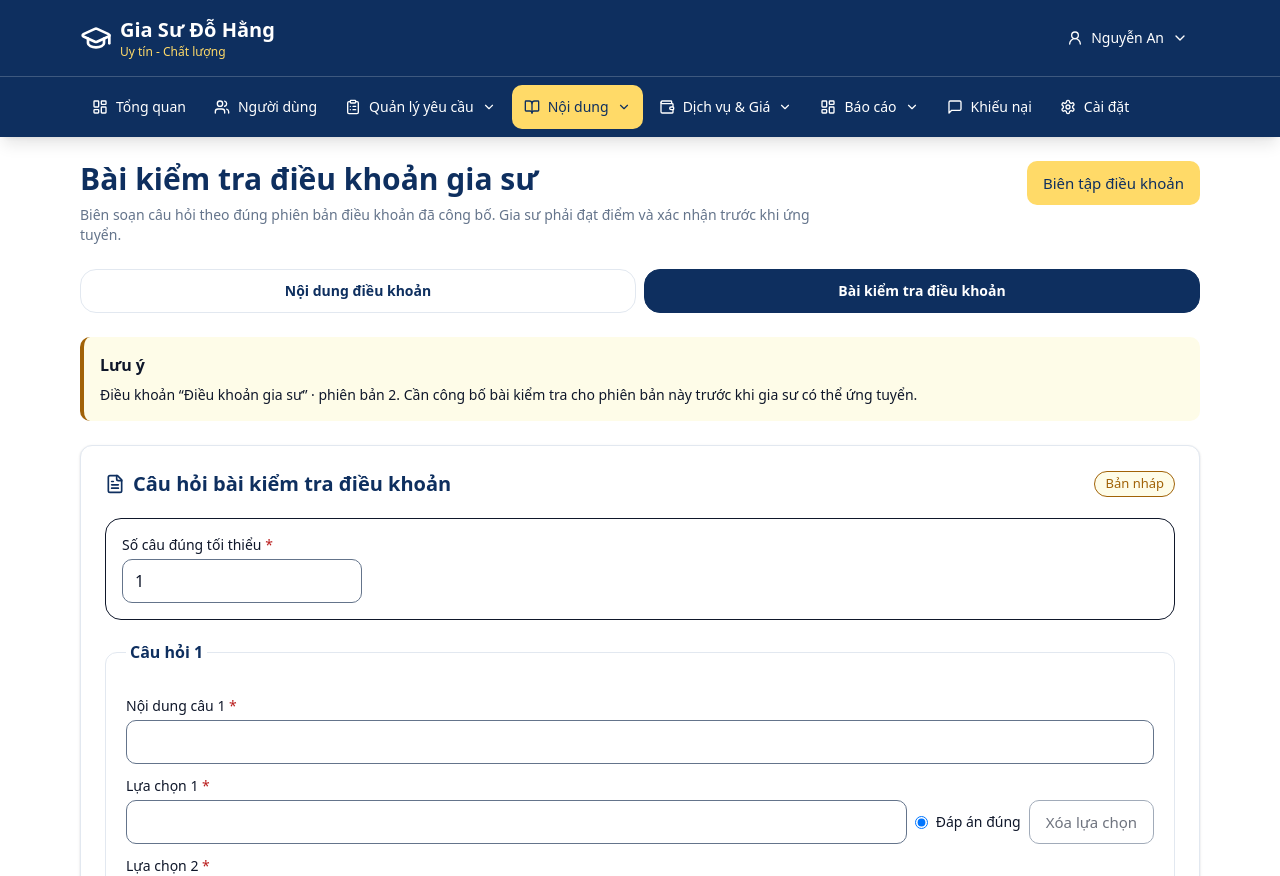
Test case: moderator terms and contracts › authors a quiz draft for the published terms version and publishes it
This screenshot has width=1280, height=876.
Expected: the text "Cần công bố bài kiểm tra cho phiên bản này" is shown, x1=404 y1=385 x2=917 y2=404
Type "Điều khoản hiện hành nói gì?" into the field labelled "Nội dung câu 1" at (640, 742), box x1=126 y1=720 x2=1154 y2=764
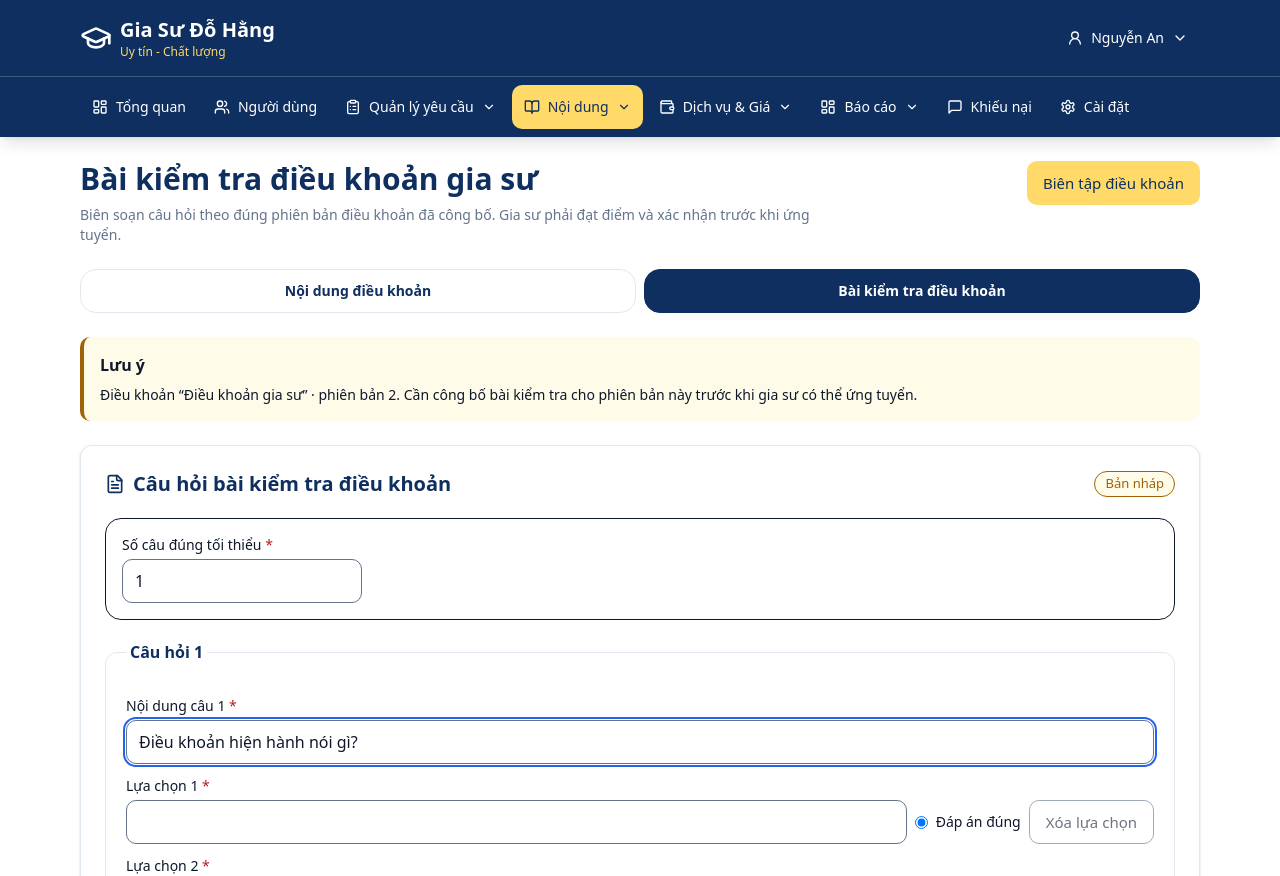
Type "Nội dung A" into the field labelled "Lựa chọn 1" at (516, 822), box x1=126 y1=800 x2=907 y2=844
(page scrolled)
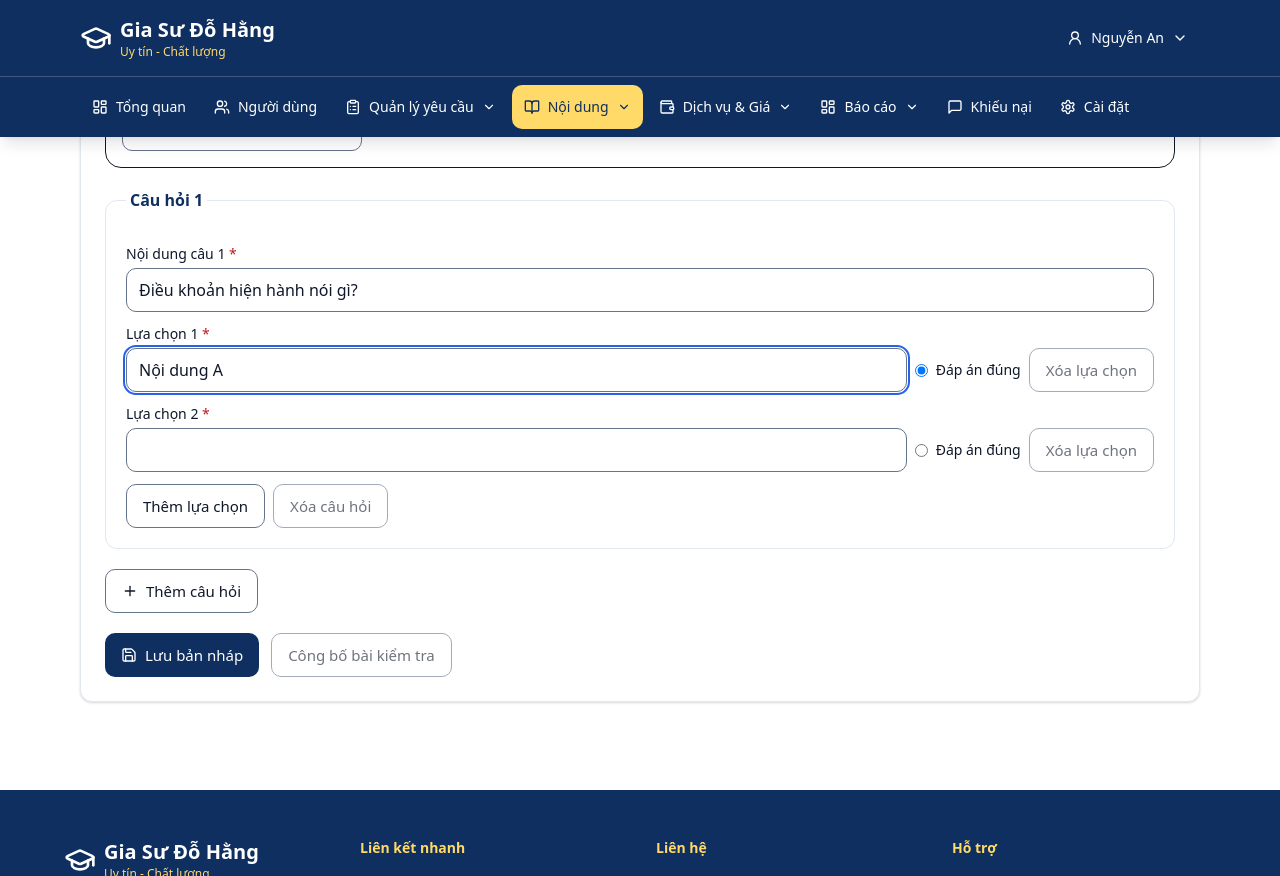
Type "Nội dung B" into the field labelled "Lựa chọn 2" at (516, 450), box x1=126 y1=428 x2=907 y2=472
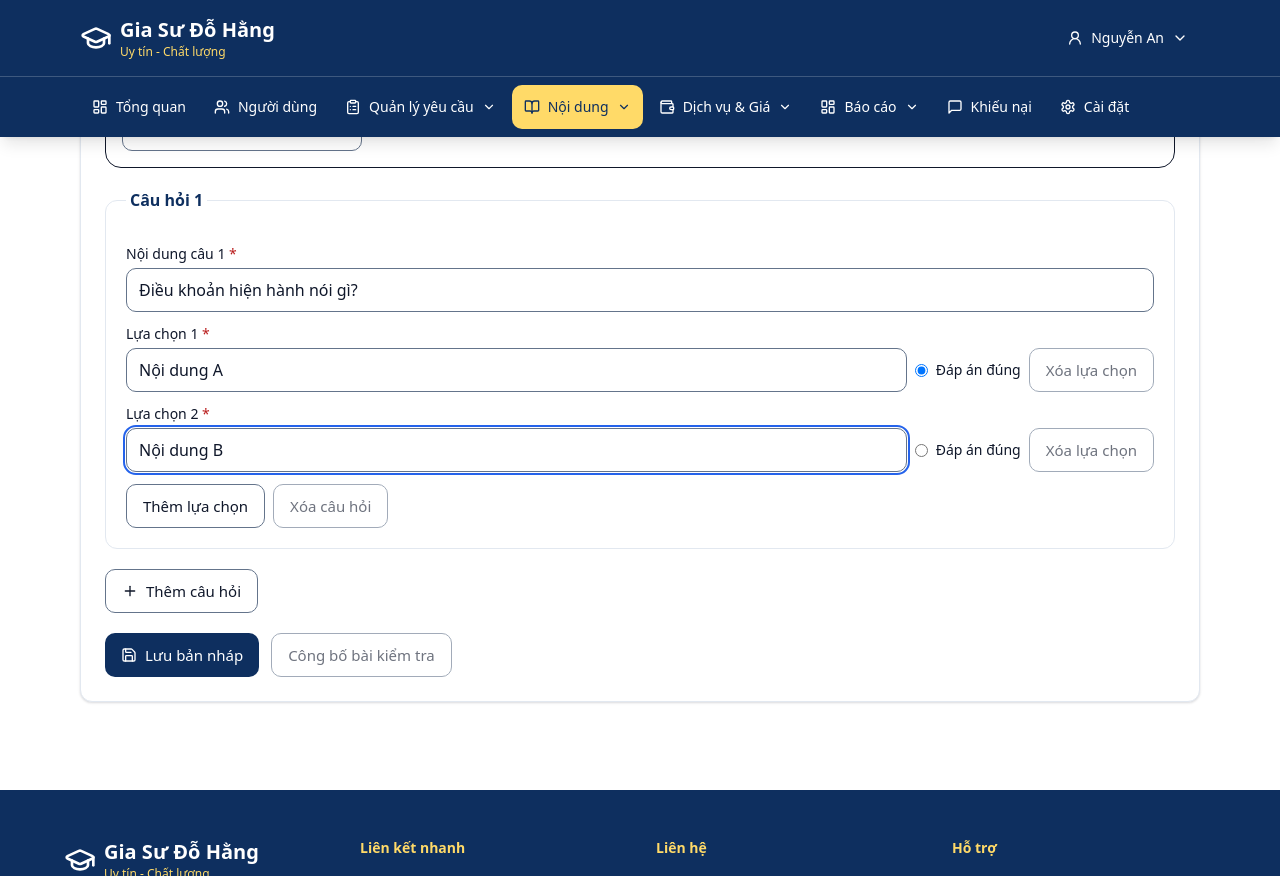
Click the button "Lưu bản nháp" at (182, 655), box x1=105 y1=633 x2=259 y2=677
(page scrolled)
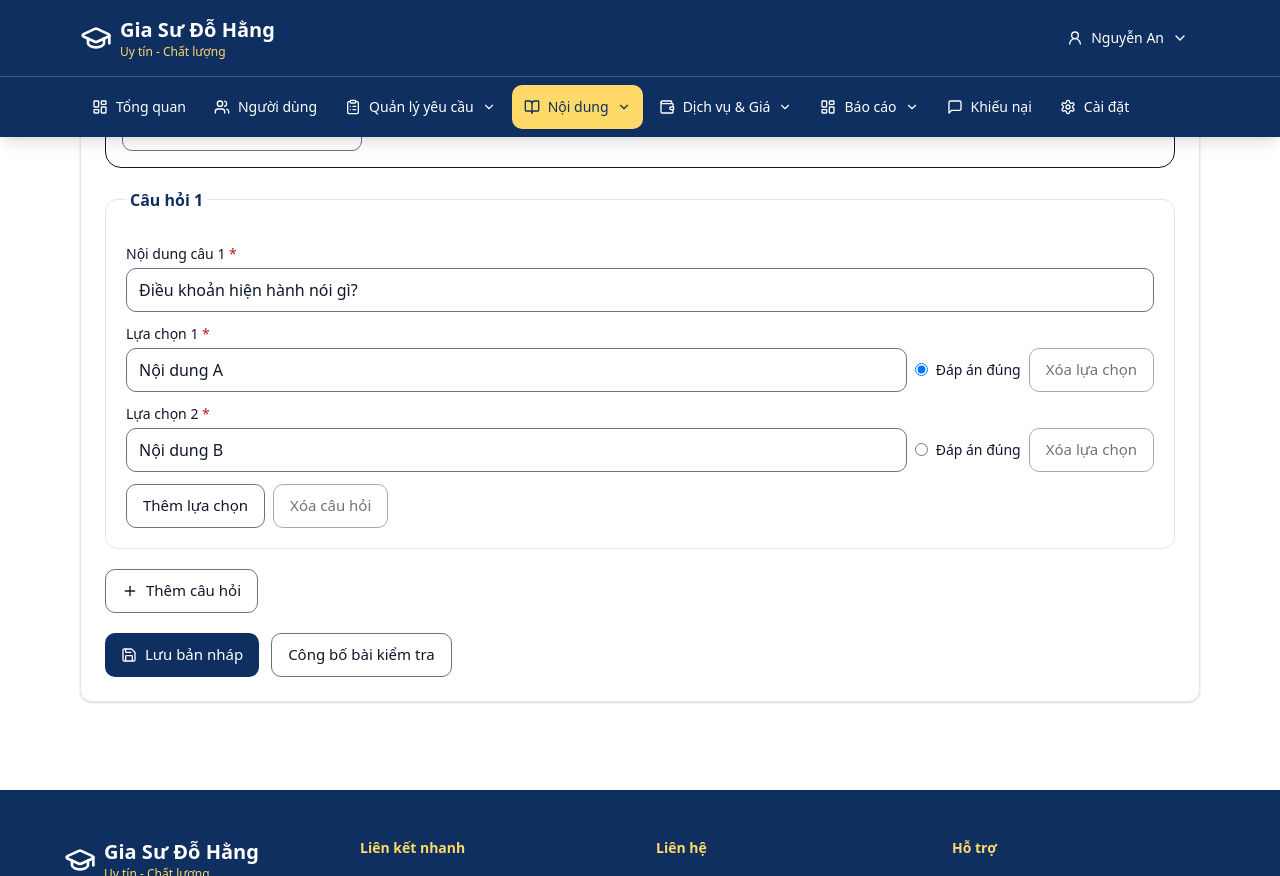
Click the button "Công bố bài kiểm tra" at (361, 655), box x1=271 y1=633 x2=452 y2=677
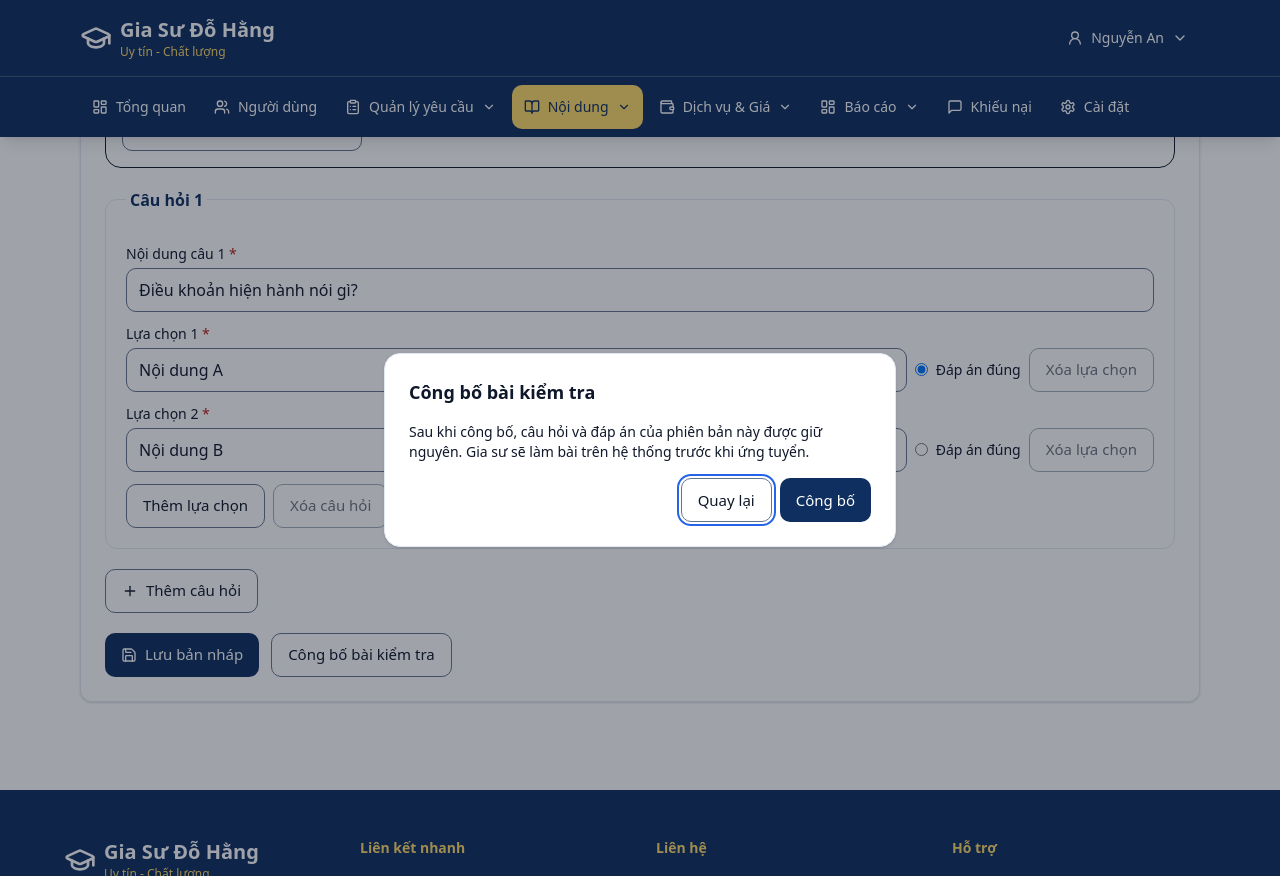
Click the button "Công bố" at (825, 500), box x1=780 y1=478 x2=871 y2=522
(page scrolled)
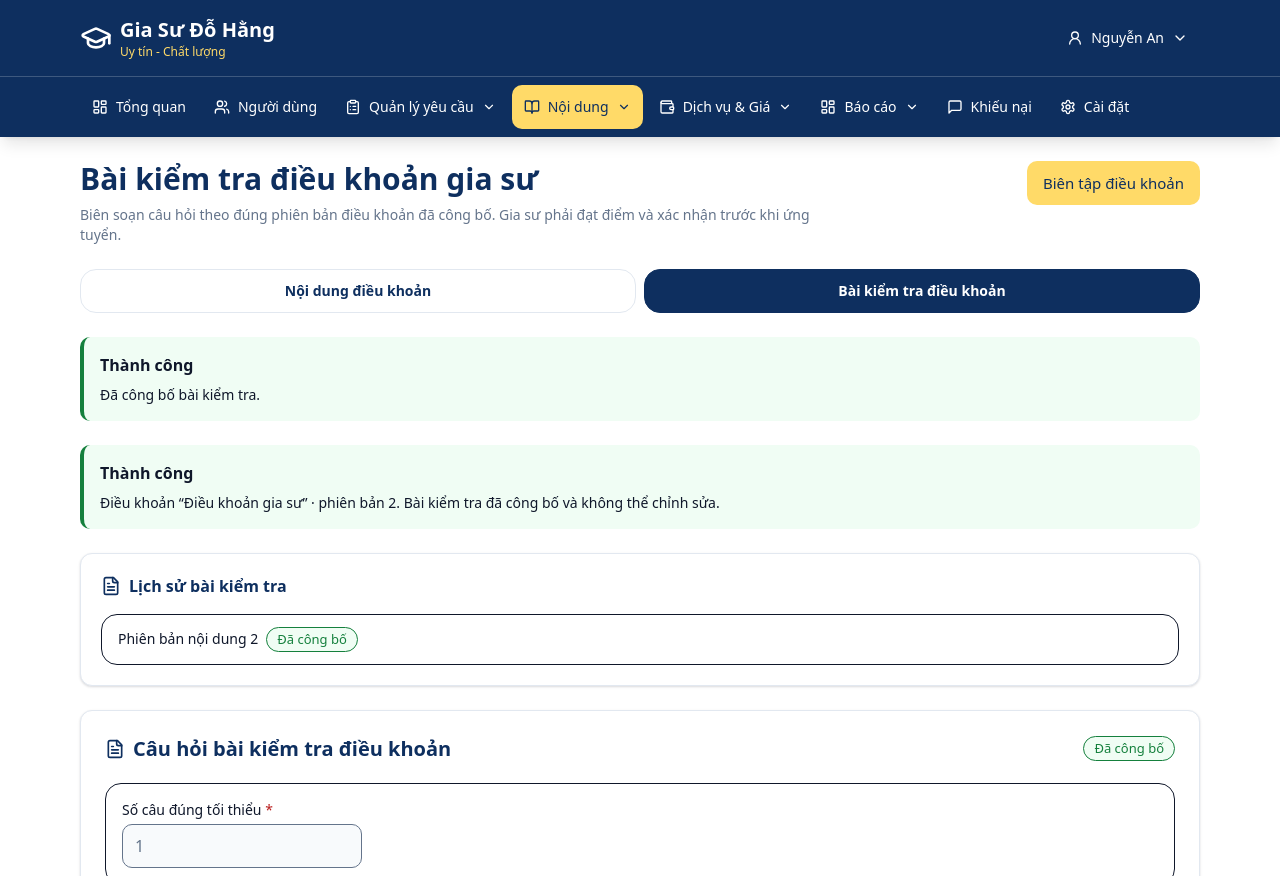
Result: the text "Đã công bố bài kiểm tra." is shown at x1=100 y1=385 x2=260 y2=404
